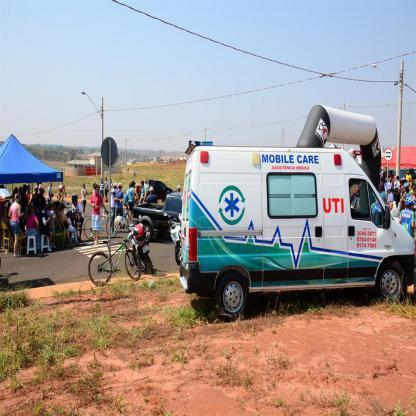Ambulance - v1 Ambulance last generate: (179, 104, 415, 322)
